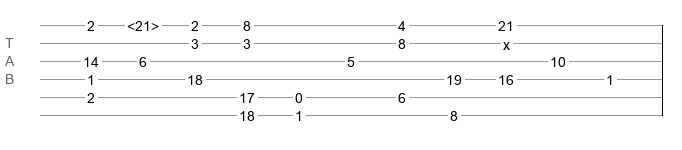0: (295, 90, 303, 100)
1: (87, 72, 95, 82), (295, 108, 303, 118), (606, 72, 614, 82)
10: (550, 54, 566, 64)
14: (83, 54, 99, 64)
16: (498, 72, 514, 82)
17: (239, 90, 255, 100)
18: (187, 72, 203, 82), (239, 108, 255, 118)
19: (446, 72, 462, 82)
2: (87, 90, 95, 100), (87, 18, 95, 28), (191, 18, 199, 28)
21: (498, 18, 514, 28)
3: (191, 36, 199, 46), (243, 36, 251, 46)
4: (398, 18, 406, 28)
5: (347, 54, 355, 64)
6: (139, 54, 147, 64), (398, 90, 406, 100)
8: (243, 18, 251, 28), (398, 36, 406, 46), (450, 108, 458, 118)
harmonic: (127, 18, 159, 28)
x: (503, 37, 510, 45)
